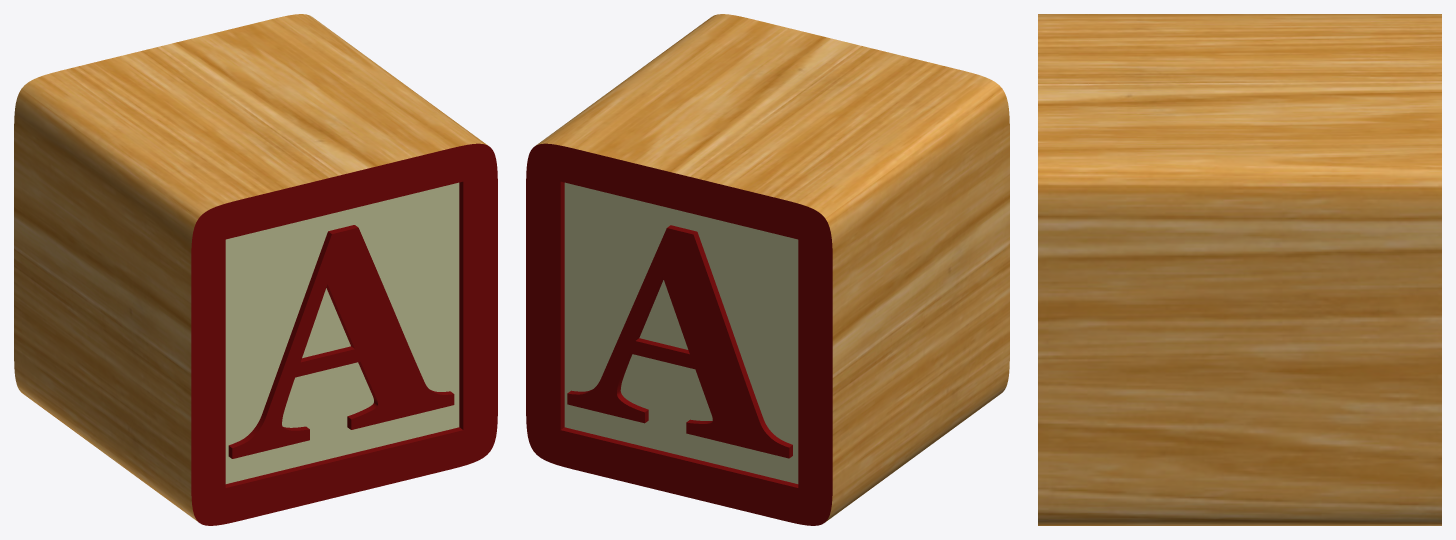
Rendered from block.obj.
3 renders of one model, left to right at view 1: azimuth 30°, elevation 25°; view 2: azimuth 150°, elevation 25°; view 3: azimuth 270°, elevation 25°, orthographic. The views are drawn at different scales.
Parts seen in each view (by area): view 1: Cube_Cube.006, Plane, Text_Text.002; view 2: Cube_Cube.006, Plane.002, Text.001; view 3: Cube_Cube.006.
Boxes of the visible parts, x1,y1,x2,y2 form: Cube_Cube.006: (14,14,487,521); Plane: (191,143,497,525); Text_Text.002: (228,225,454,458); Cube_Cube.006: (536,14,1009,521); Plane.002: (526,143,832,525); Text.001: (567,225,792,458); Cube_Cube.006: (1038,14,1441,525).
Size of the model in its own units: 2 by 2 by 2.
Materials: 3 (1 with a texture image).
